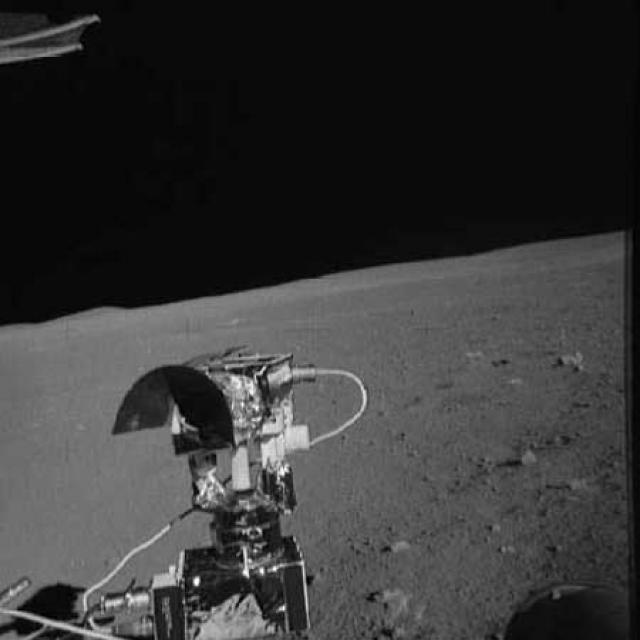rock: (363, 581, 414, 623), (554, 342, 590, 379), (486, 536, 532, 562), (553, 475, 590, 500), (511, 447, 537, 475), (307, 565, 338, 587), (382, 534, 405, 557), (486, 518, 506, 535), (551, 538, 568, 556)
